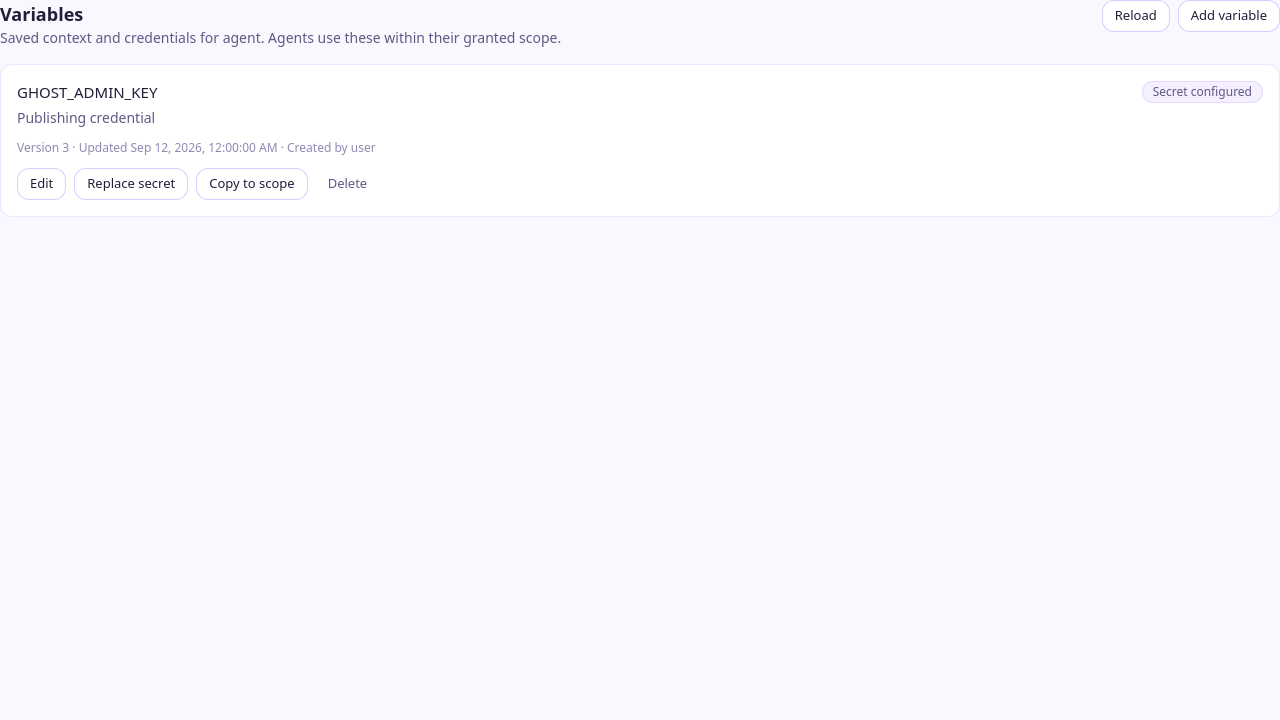
Scenario: requires explicit reload after a stale replacement and never restores the secret
Expected: the heading "GHOST_ADMIN_KEY" is shown, [17, 81, 157, 104]
Click the button "Replace secret".
click(131, 184)  # box [74, 168, 188, 200]
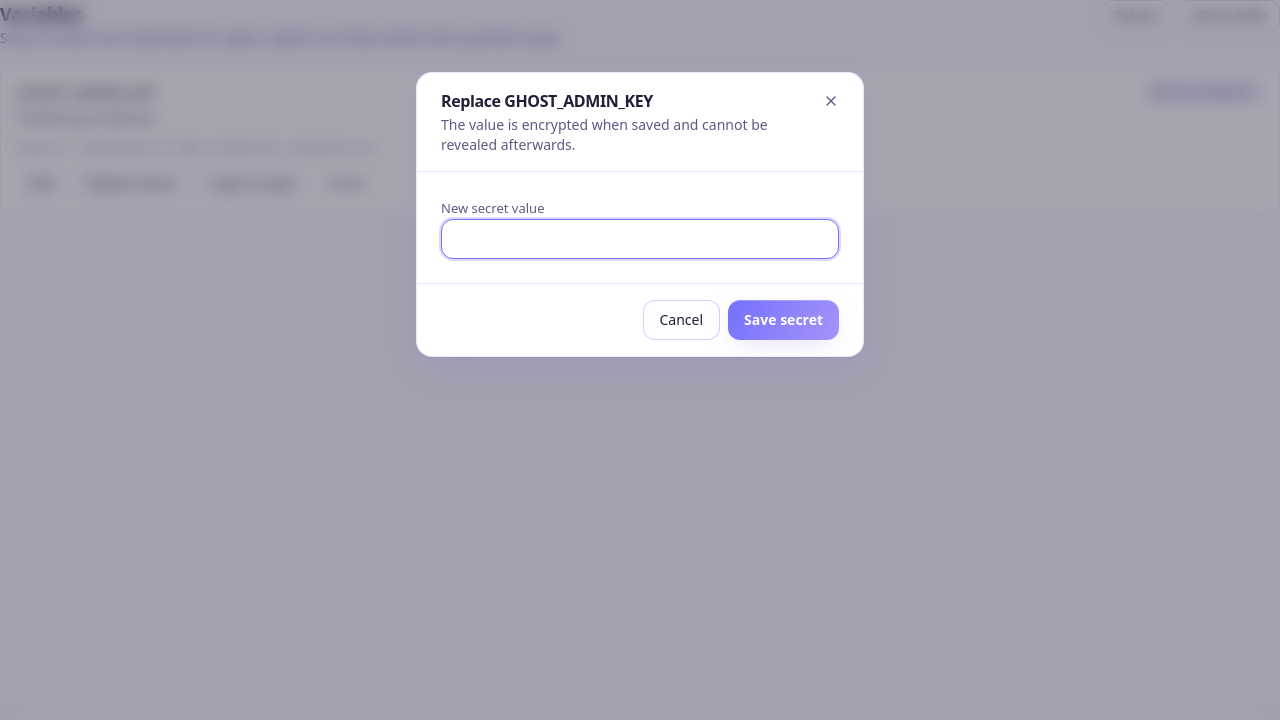
Type "ephemeral" into the password field labelled "New secret value".
click(640, 238); type("ephemeral")  # box [441, 218, 839, 258]
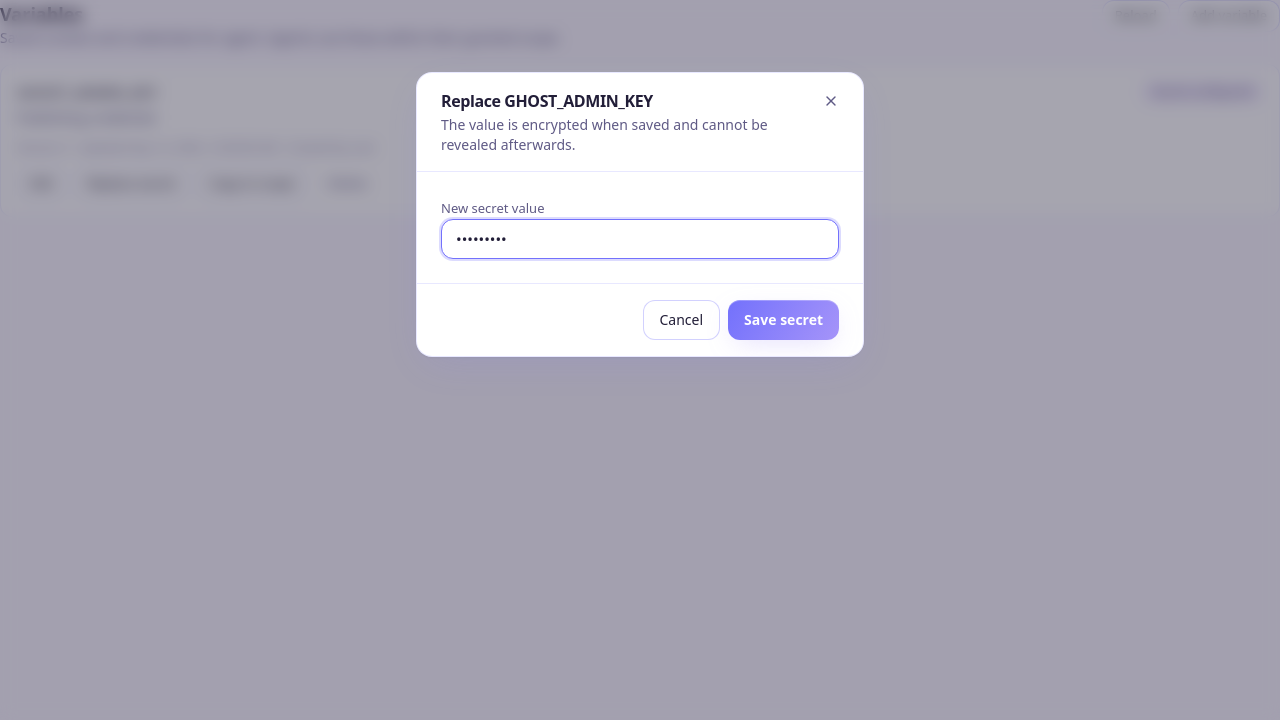
Click the button "Save secret".
click(784, 320)  # box [728, 300, 839, 340]
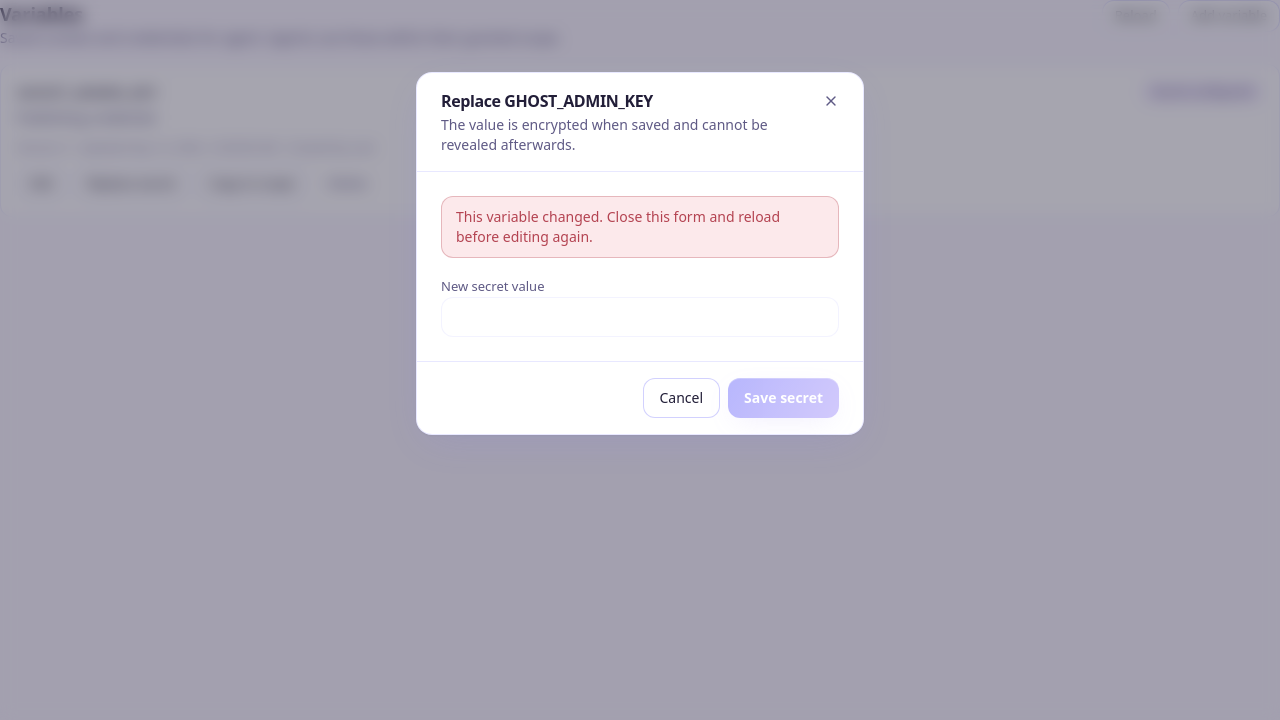
Expected: the password field labelled "New secret value" is empty, [441, 296, 839, 336]
Result: the button "Save secret" is disabled at [728, 378, 839, 418]
